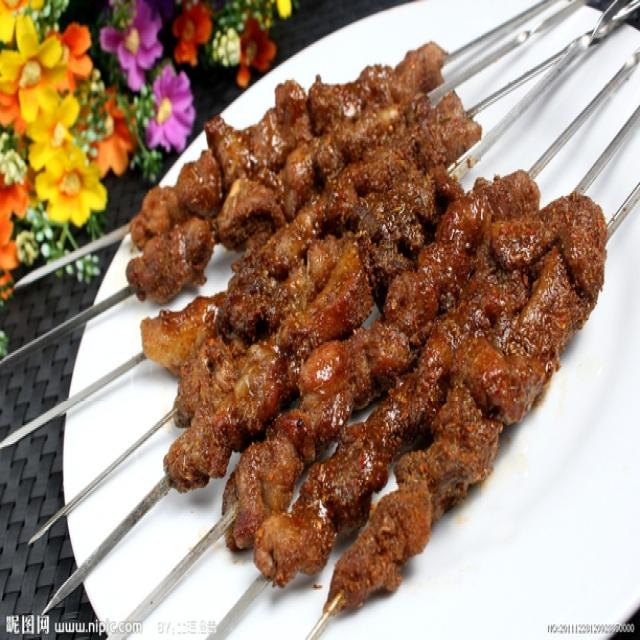烧串烤肉: (20, 47, 597, 618)
